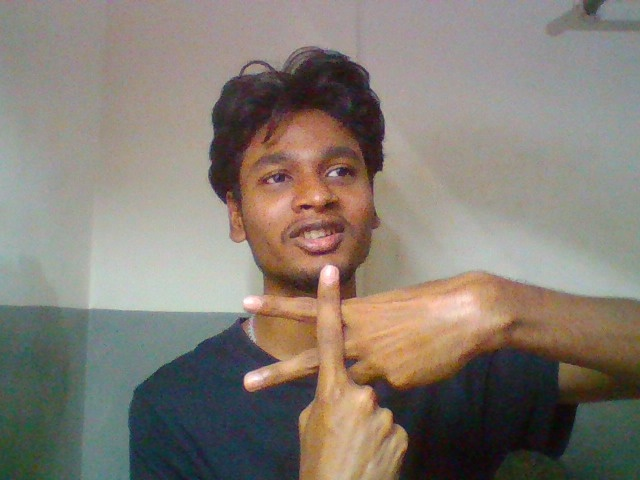K: (238, 266, 510, 480)
